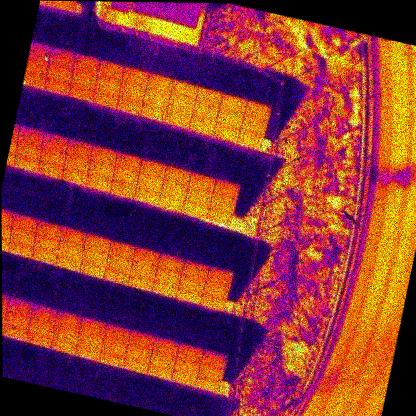Hotspot: (115, 94, 143, 115), (142, 88, 170, 109), (96, 60, 125, 80), (140, 102, 168, 122), (52, 324, 80, 344), (97, 350, 125, 369), (2, 322, 29, 340), (207, 267, 233, 285)
Normal: (16, 125, 46, 146), (164, 107, 192, 129), (244, 99, 272, 121), (80, 246, 109, 267), (121, 355, 150, 376), (25, 329, 54, 350), (151, 278, 179, 299), (78, 259, 106, 280), (133, 184, 161, 205), (188, 114, 216, 135), (91, 88, 119, 109), (43, 76, 71, 97), (215, 107, 243, 128), (192, 100, 220, 121), (118, 80, 146, 101), (170, 80, 198, 101), (145, 72, 173, 93), (121, 66, 149, 87), (170, 367, 198, 388), (146, 361, 174, 382), (127, 330, 155, 351), (78, 317, 106, 338), (30, 303, 58, 324), (157, 192, 186, 212), (212, 122, 241, 142), (69, 68, 98, 88), (72, 54, 101, 74), (100, 336, 129, 356), (151, 337, 180, 357), (53, 311, 82, 331), (175, 285, 203, 305), (54, 252, 82, 272), (30, 246, 58, 266), (153, 266, 181, 286), (205, 205, 233, 225), (181, 199, 209, 219), (109, 179, 137, 199), (85, 172, 113, 192), (60, 166, 88, 186), (36, 159, 64, 179), (12, 153, 40, 173), (39, 146, 67, 166), (212, 178, 240, 198), (139, 158, 167, 178), (114, 152, 142, 172), (236, 128, 264, 148), (67, 82, 95, 102), (167, 94, 195, 114), (46, 61, 74, 81), (220, 94, 248, 114), (195, 87, 223, 107), (48, 47, 76, 67), (127, 272, 154, 292), (102, 266, 129, 286), (60, 226, 87, 246), (161, 179, 188, 199), (88, 159, 115, 179), (64, 152, 91, 172), (15, 139, 42, 159), (66, 139, 93, 159), (240, 114, 267, 134), (95, 74, 122, 94), (194, 374, 221, 394), (50, 336, 77, 356), (201, 349, 228, 369), (6, 239, 34, 258), (178, 273, 206, 292), (129, 259, 157, 278), (105, 253, 133, 272), (32, 234, 60, 253), (10, 213, 38, 232), (209, 192, 237, 211), (136, 172, 164, 191), (41, 132, 69, 151), (76, 331, 104, 350), (28, 317, 56, 336), (176, 343, 204, 362), (103, 324, 131, 343), (200, 291, 226, 311), (57, 240, 84, 259), (8, 227, 35, 246), (182, 260, 209, 279), (157, 253, 184, 272), (132, 246, 159, 265), (108, 240, 135, 259), (84, 234, 111, 253), (35, 221, 62, 240), (185, 186, 212, 205), (112, 166, 139, 185), (189, 173, 216, 192), (164, 166, 191, 185), (90, 146, 117, 165), (75, 343, 102, 362), (198, 361, 225, 380), (174, 356, 201, 375), (6, 298, 33, 317), (125, 343, 153, 361), (203, 279, 229, 298), (150, 350, 176, 369), (4, 311, 30, 329), (50, 1, 77, 13), (2, 290, 9, 309), (2, 303, 8, 323)
